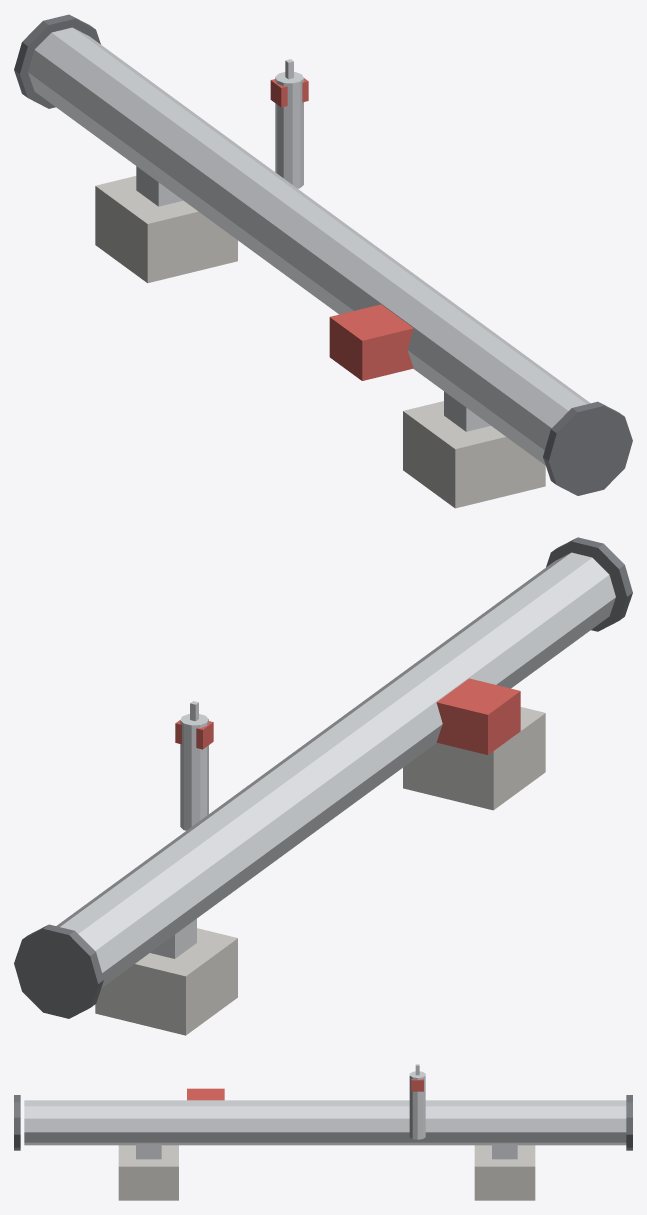
The model's file is rocket-launch-pad-and-gantry-deluge-pipe-run-5bcfe81c__38163.glb.
The picture shows the model from 3 angles, top to bottom: view 1: azimuth 30°, elevation 25°; view 2: azimuth 150°, elevation 25°; view 3: azimuth 270°, elevation 25°; orthographic projection. The views are drawn at different scales.
Parts seen in each view (by area): view 1: deluge-pipe-run; view 2: deluge-pipe-run; view 3: deluge-pipe-run.
Part boxes in pixels (x1,y1,x2,y2): deluge-pipe-run: [14, 14, 632, 508]; deluge-pipe-run: [14, 537, 632, 1035]; deluge-pipe-run: [14, 1064, 632, 1200].
Bounding box in the file's own units: 1.24 × 1.99 × 8.18.
